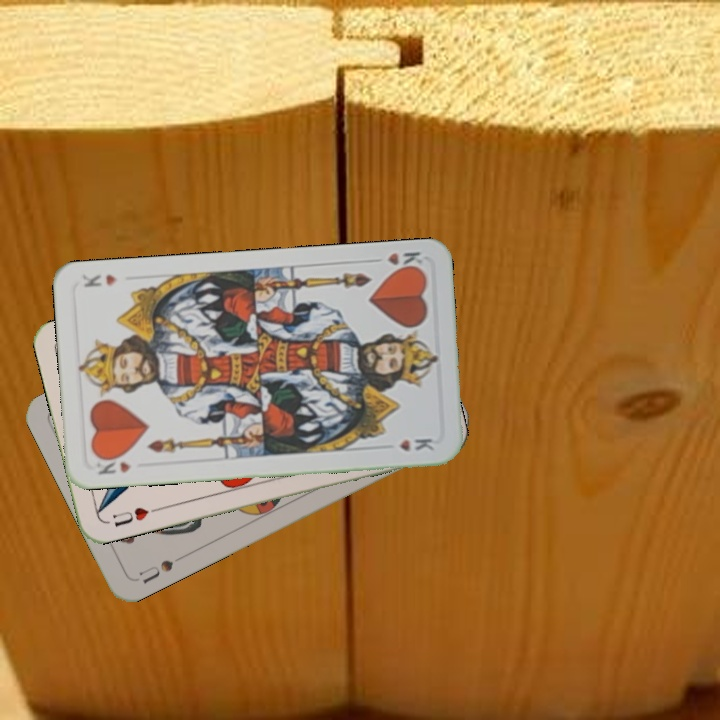HK: (367, 247, 427, 275), (90, 451, 134, 477)
HU: (108, 503, 151, 530)
SU: (134, 555, 176, 587)
